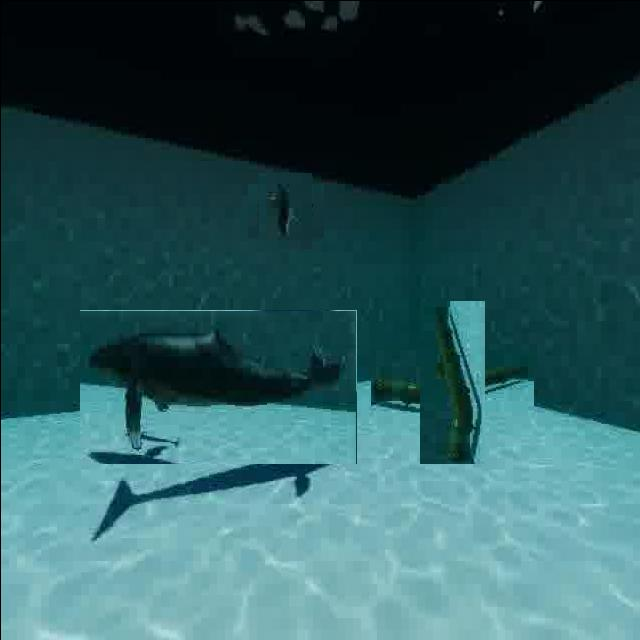Pipe: (394, 325, 508, 439)
Whale: (79, 309, 356, 463), (252, 178, 318, 242)
